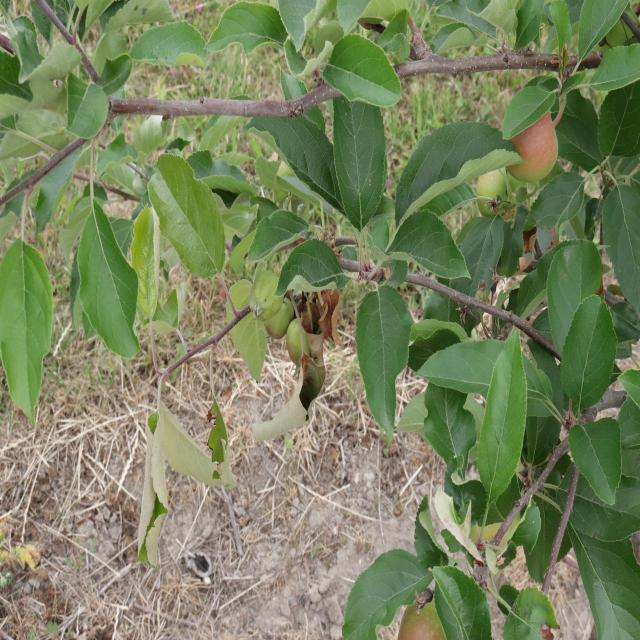-FireBlight-: (294, 285, 344, 395)
